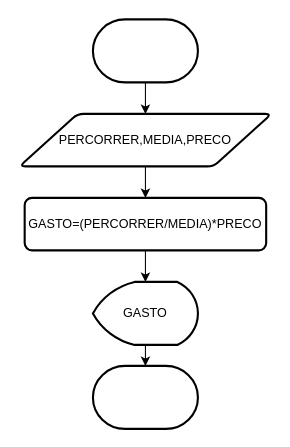
Image size: 290x447. Some labels were removed from this diagram. The centre of each missing label's shape, as x and y in pixels:
FIM: point (144, 396)
INICIO: point (144, 50)
